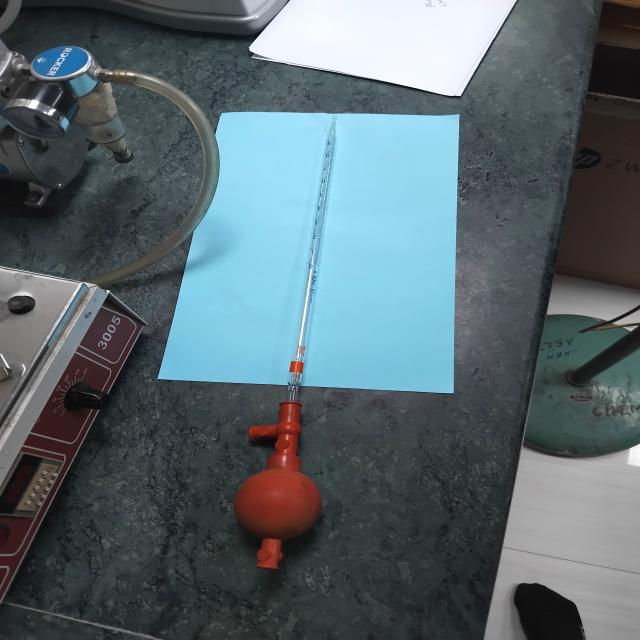Volumetric_Pipet: (229, 105, 348, 586)
